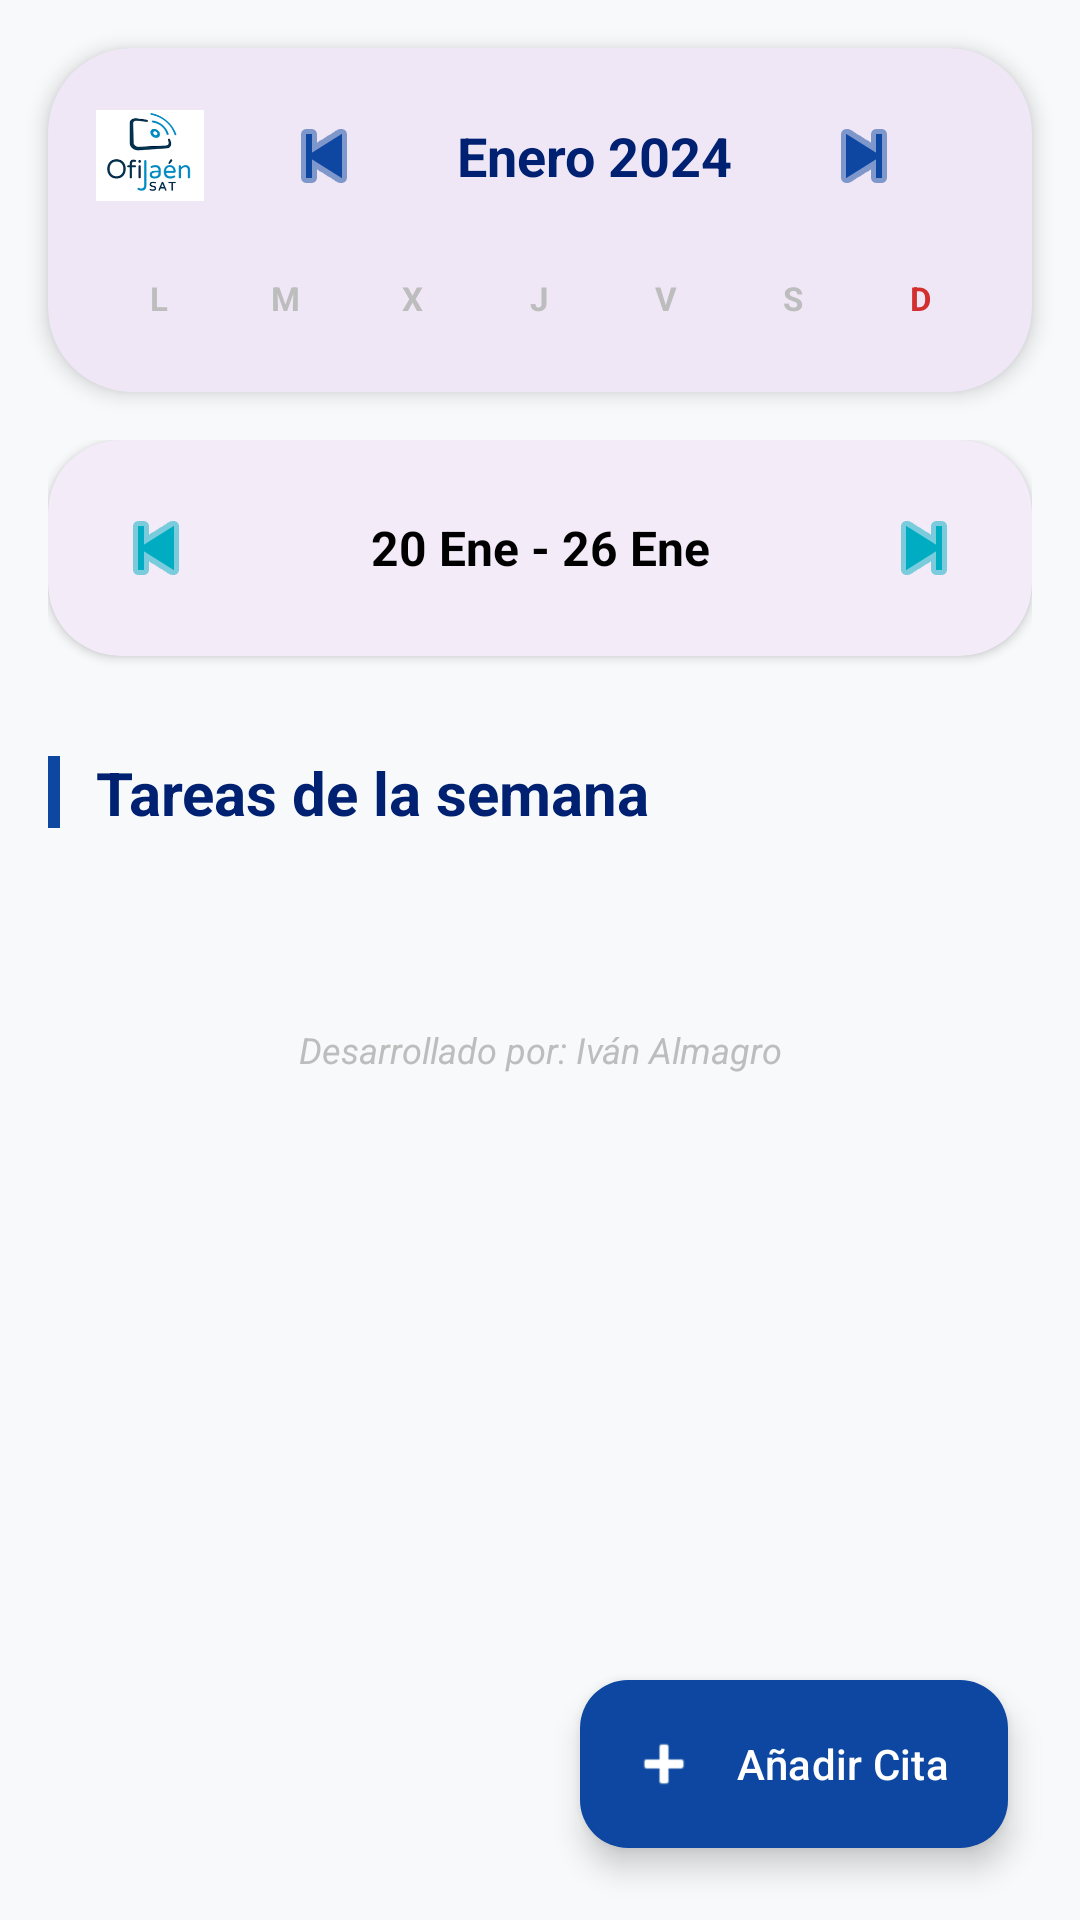

Screen size 1080x1920. Icon name, then its center in pixels as (x,y):
next: (864,156), (924,548)
previous: (324,156), (156,548)
